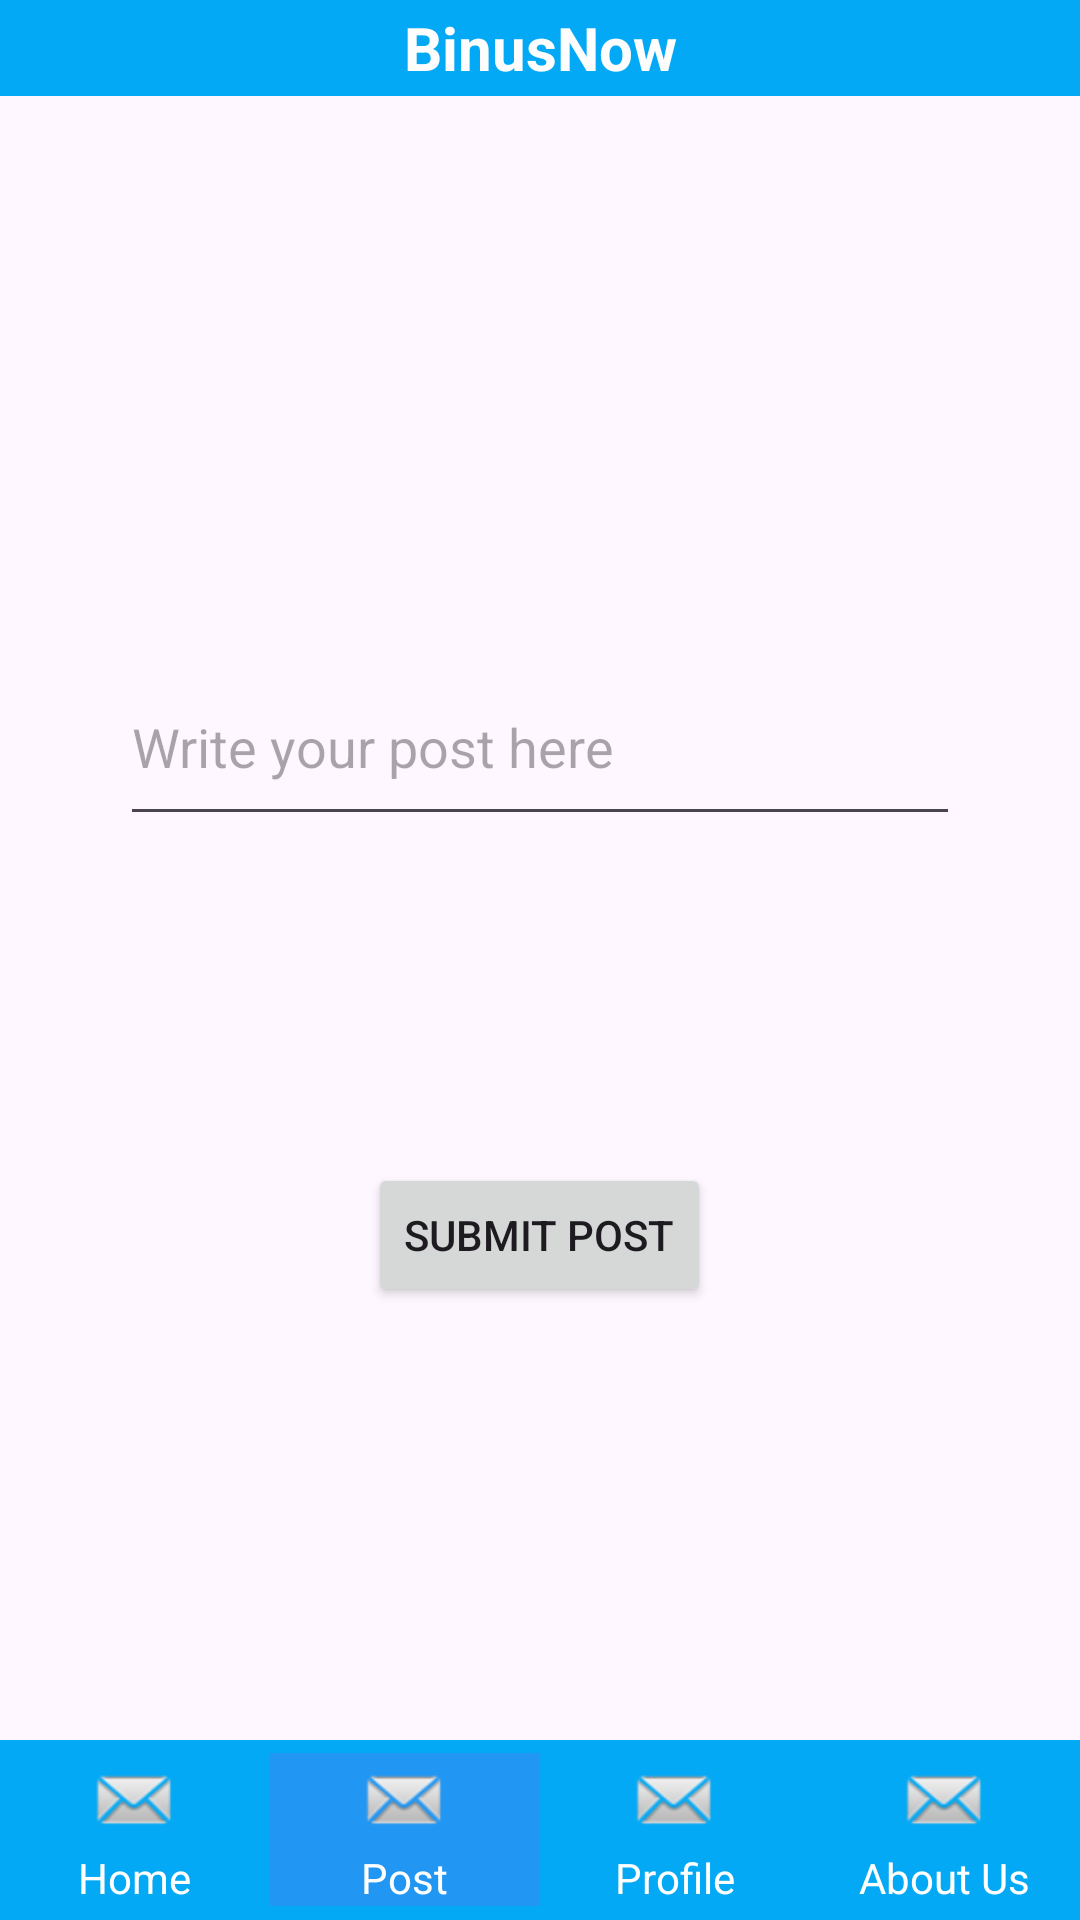

Locate icon controls on the screen. Image size 1080w x 1920h, boxes as BBox(x1, y1, x2, y2).
sym action email: BBox(96, 1775, 171, 1824), BBox(366, 1775, 441, 1824), BBox(636, 1775, 711, 1824), BBox(906, 1775, 981, 1824)
